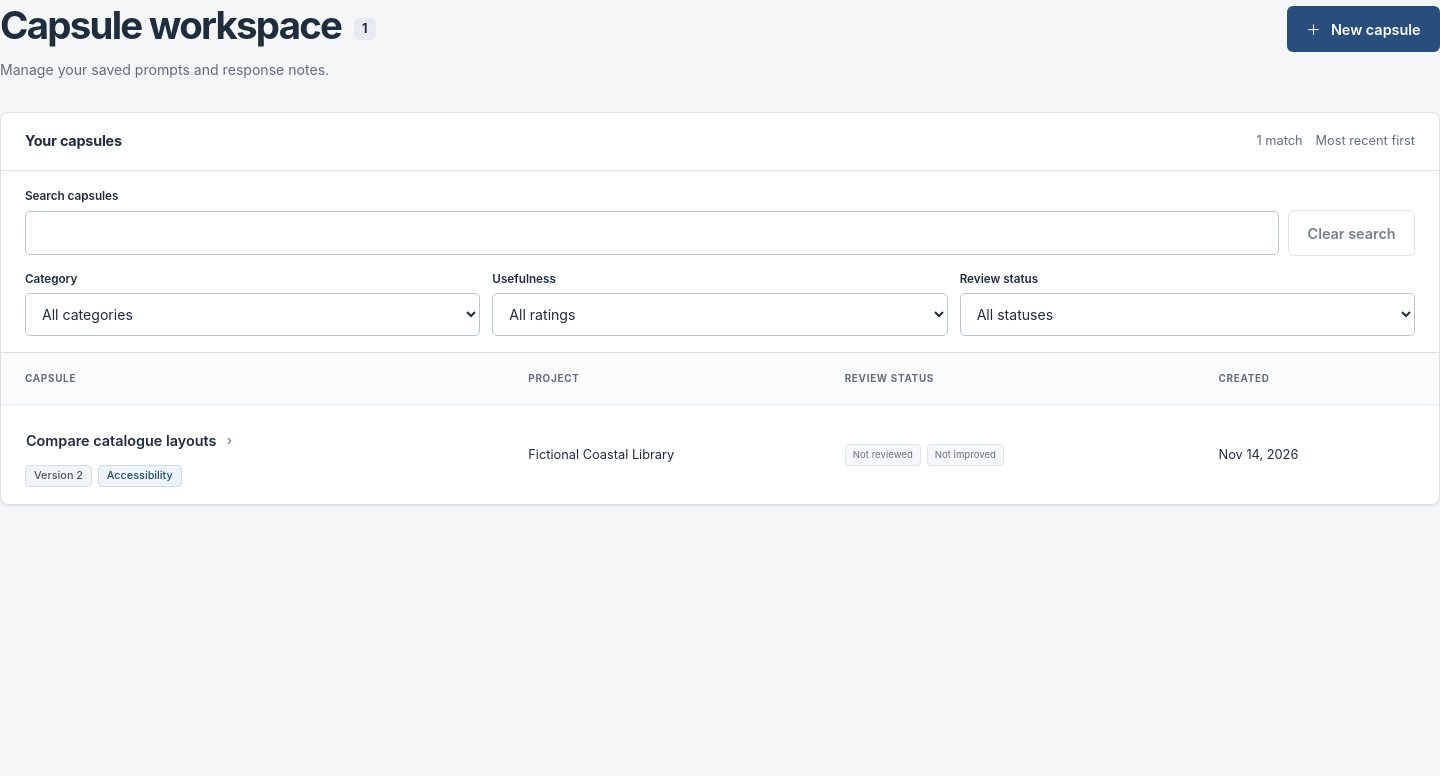
Test case: capsule workspace › cancels editing without sending a mutation
Click the button "Compare catalogue layouts ›" at coordinates (129, 441), box [25,423,233,459]
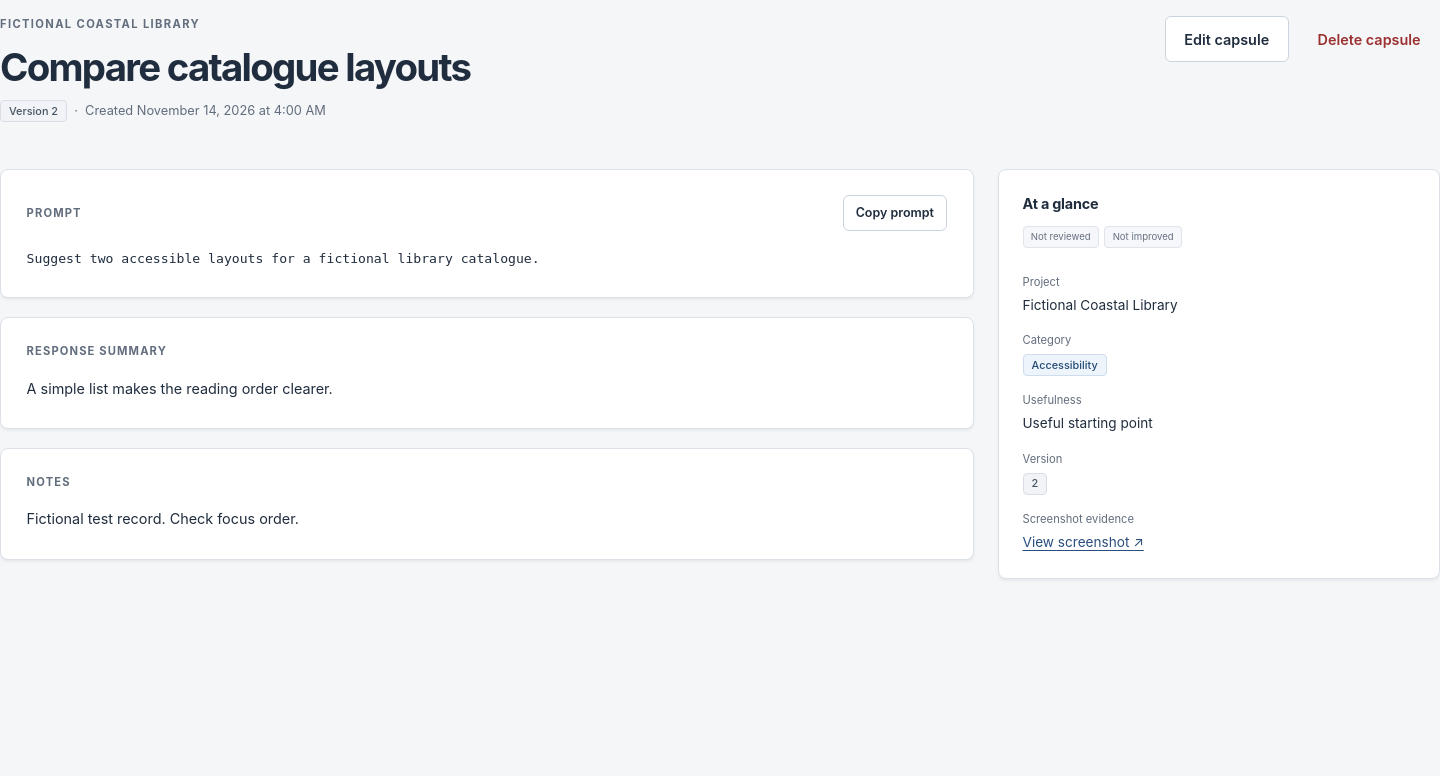
Click the button "Edit capsule" at coordinates (1227, 39), box [1165,16,1289,62]
(page scrolled)
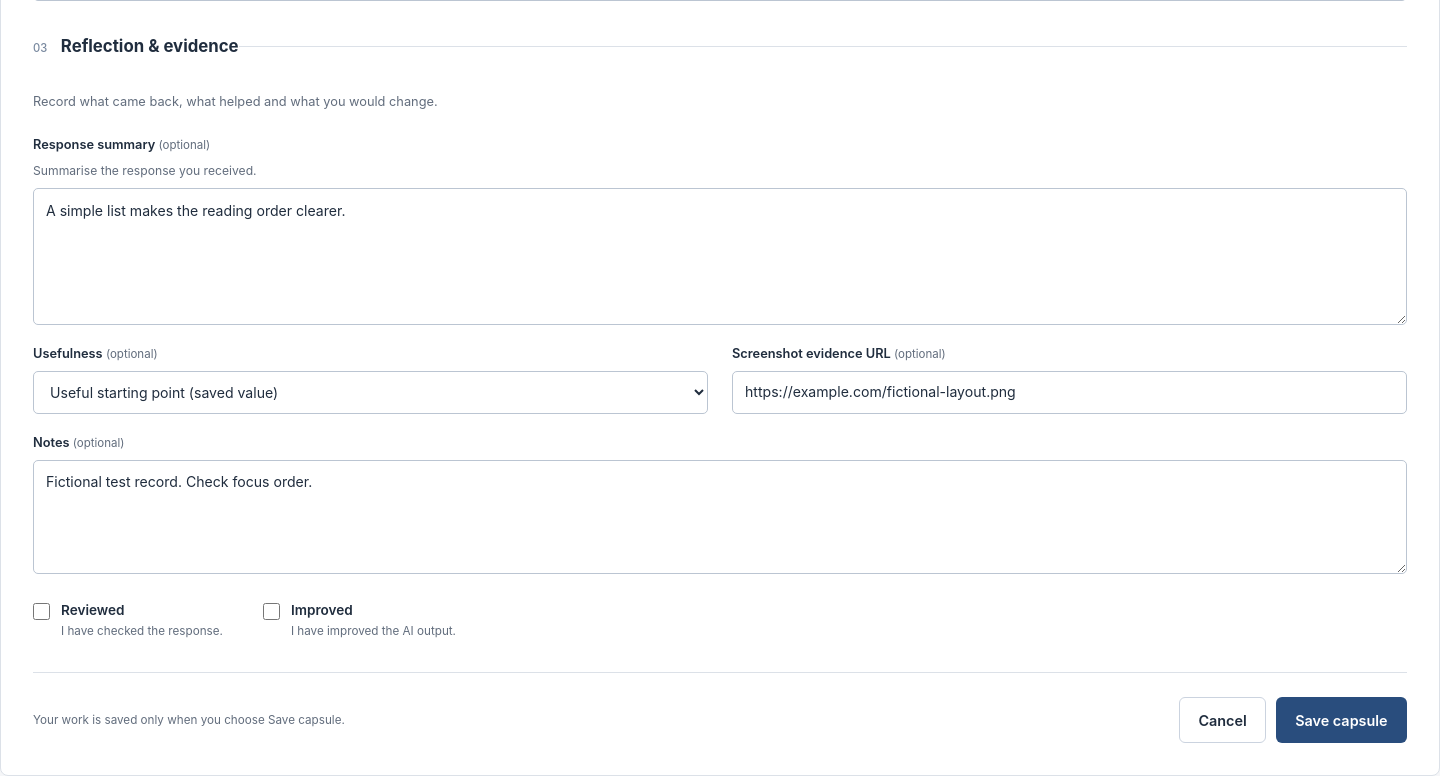
Clear the text box labelled "Notes (optional)" at coordinates (720, 517), box [33,460,1407,574]
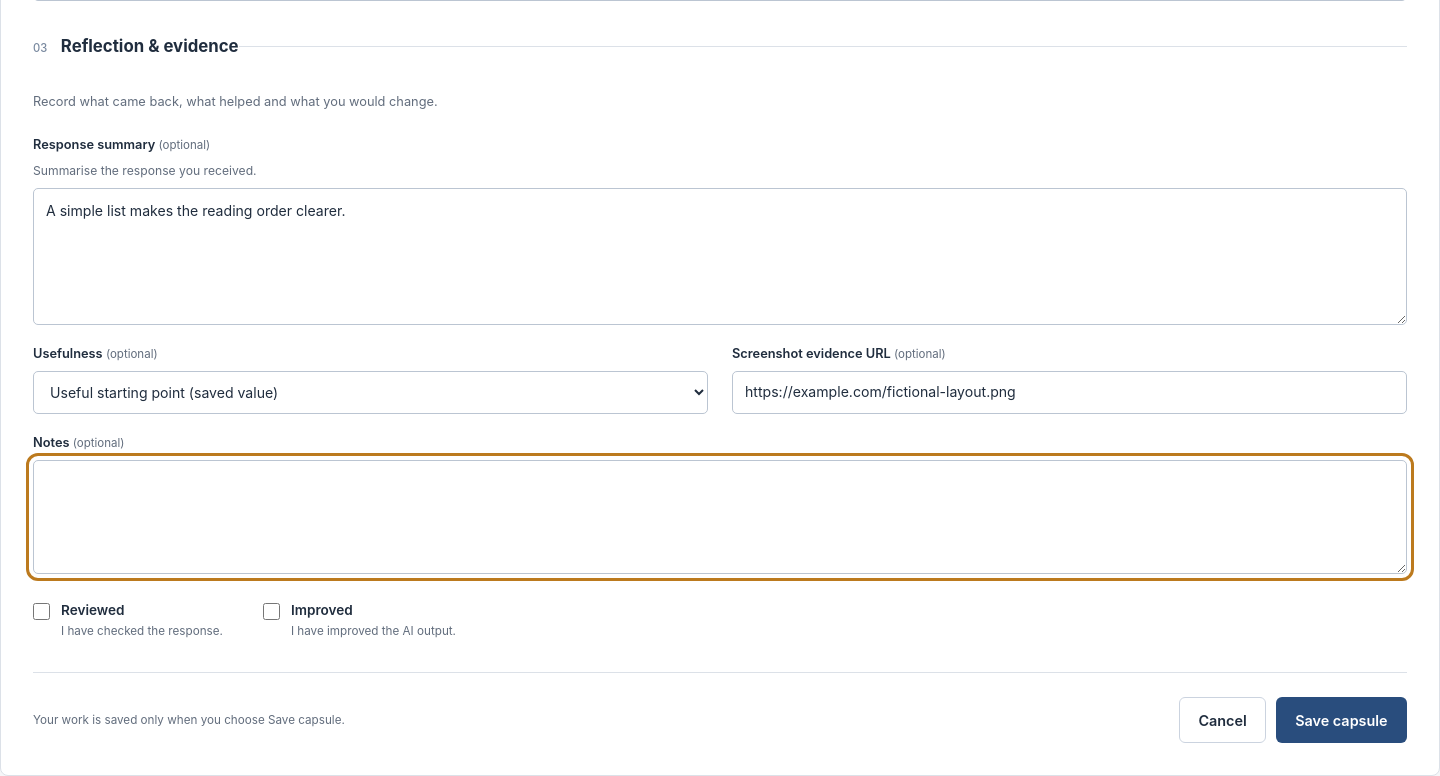
Click the button "Cancel" at coordinates (1223, 720), box [1179,697,1266,743]
(page scrolled)
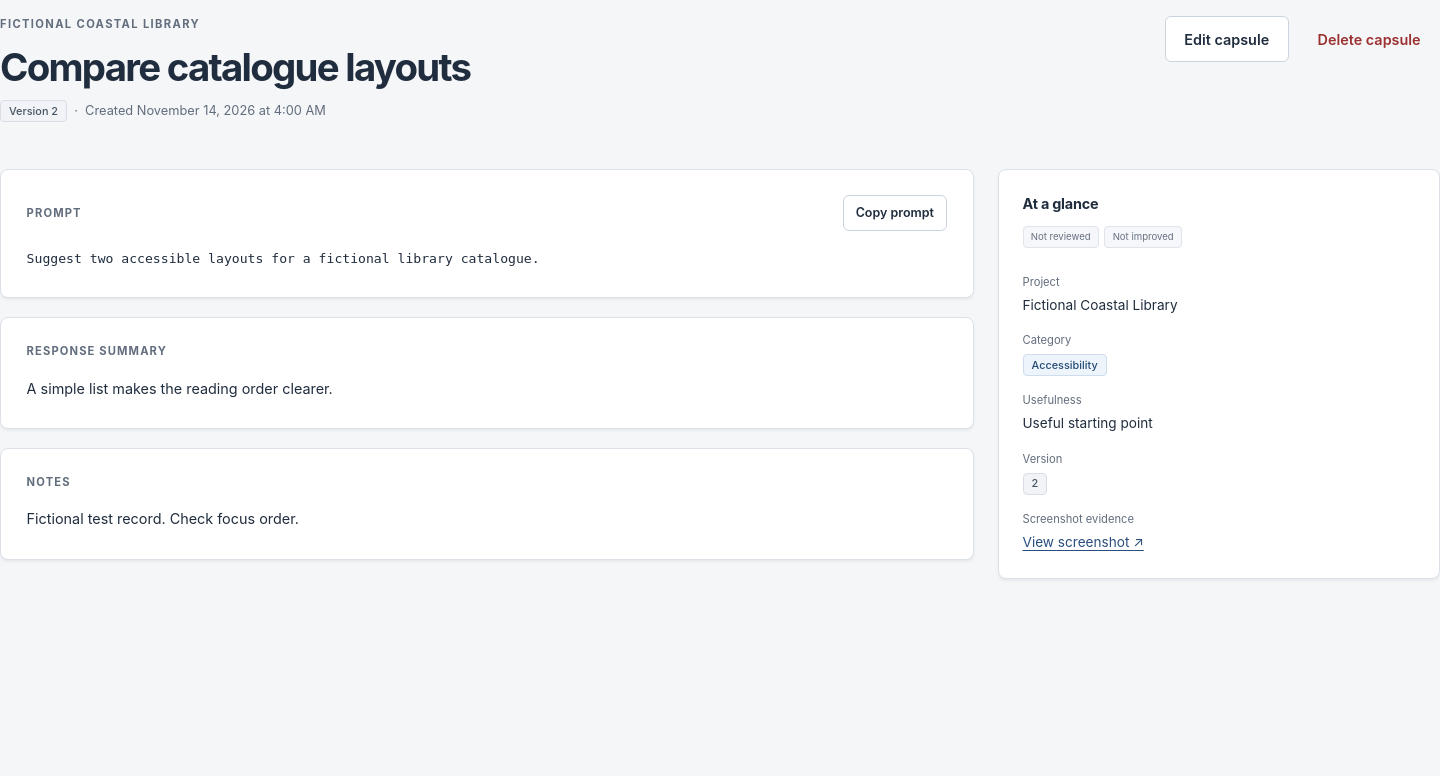
Expected: the heading "Compare catalogue layouts" is shown, [0,44,470,90]
Expected: the text "Fictional test record. Check focus order." is shown, [27,510,299,527]
